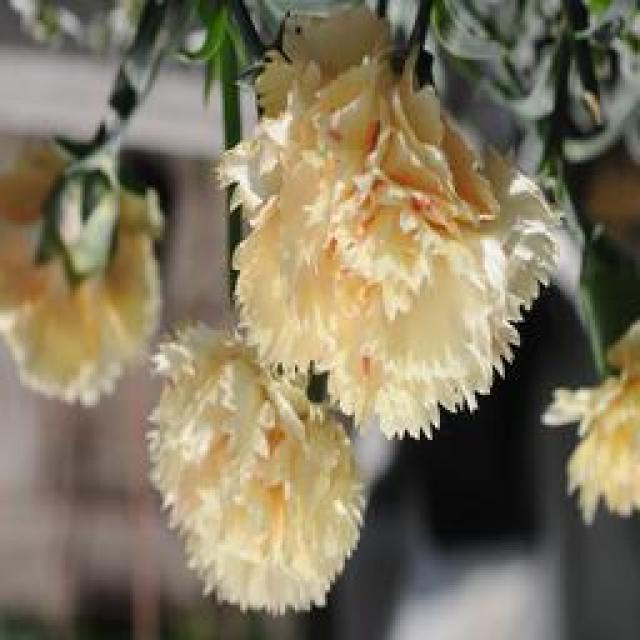carnation: (226, 28, 590, 396)
